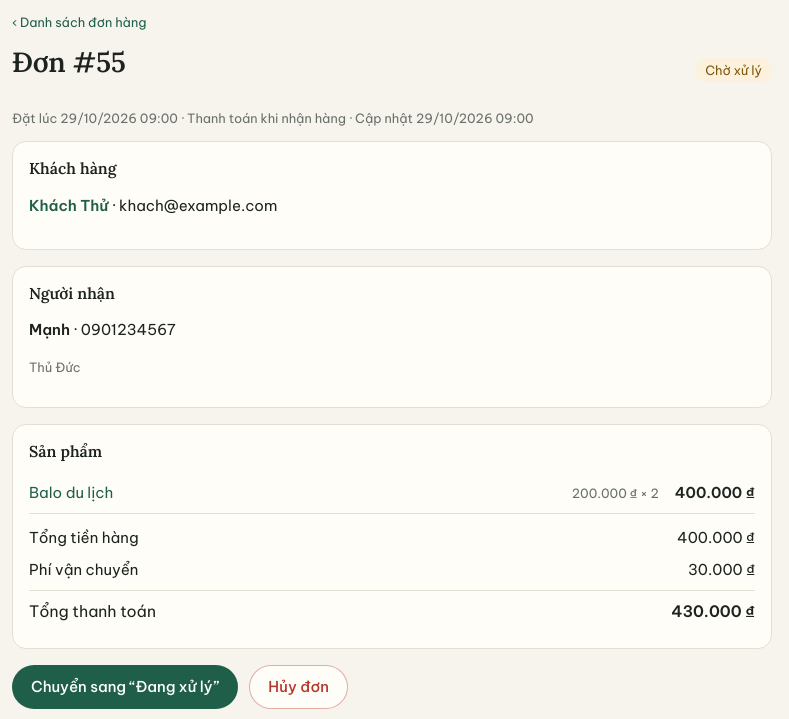
it: OrderAdminDetailPage › không xác nhận thì không đổi; hủy đơn lỗi thì hiện lỗi
Click the button "Chuyển sang “Đang xử lý”".
click(125, 687)  # box [12, 665, 238, 709]
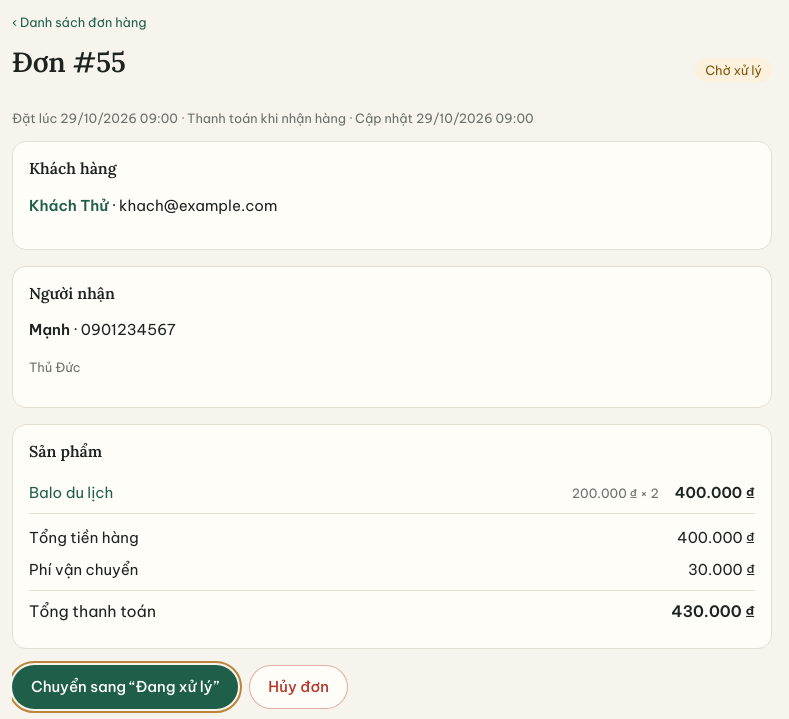
Click the button "Hủy đơn".
click(299, 687)  # box [249, 665, 348, 709]
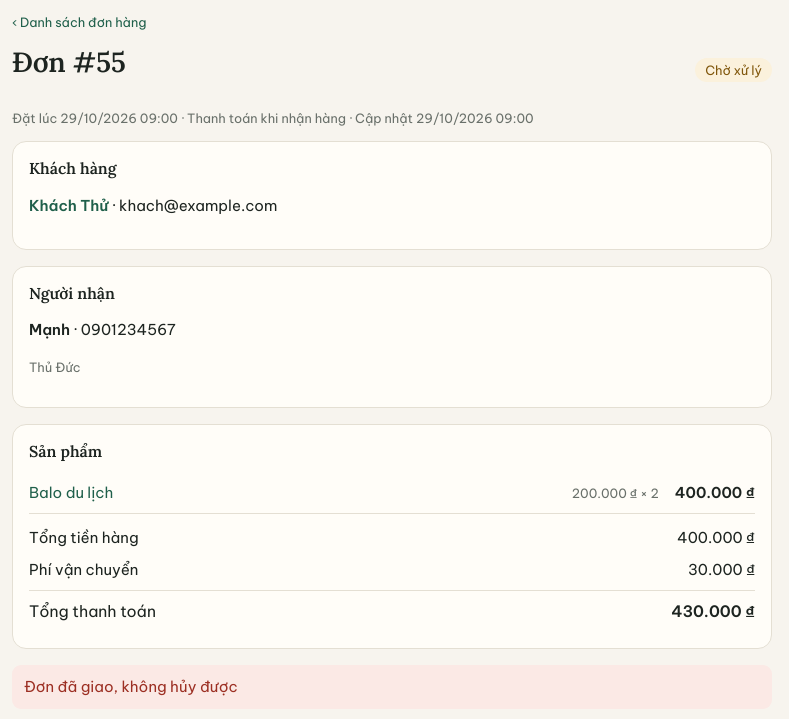
Check: the message reads "Đơn đã giao, không hủy được", box [24, 677, 238, 696]
